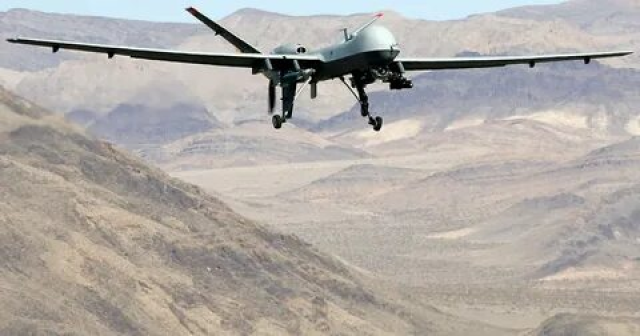military drone: (5, 6, 633, 131)
